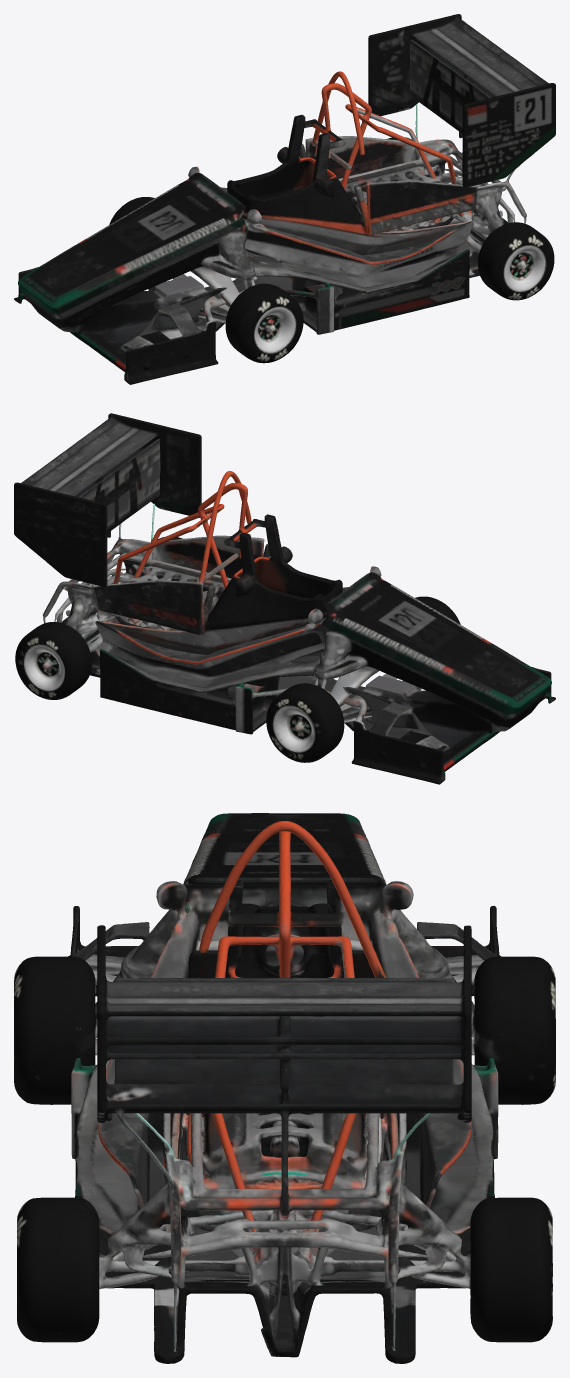
Rendered from mark-6.fbx.
The picture shows the model from 3 angles, top to bottom: view 1: azimuth 30°, elevation 25°; view 2: azimuth 150°, elevation 25°; view 3: azimuth 270°, elevation 25°; orthographic projection. The views are drawn at different scales.
Parts seen in each view (by area): view 1: Mesh_0; view 2: Mesh_0; view 3: Mesh_0.
Part boxes in pixels (left/top/right/bottom): Mesh_0: left=14, top=14, right=555, bottom=384; Mesh_0: left=14, top=413, right=555, bottom=784; Mesh_0: left=14, top=813, right=555, bottom=1363.
Bounding box in the file's own units: 190 × 79.95 × 96.78.
1 material, 1 textured.
